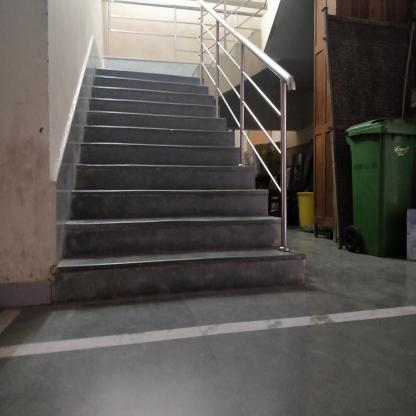stairs: (91, 168, 263, 314)
